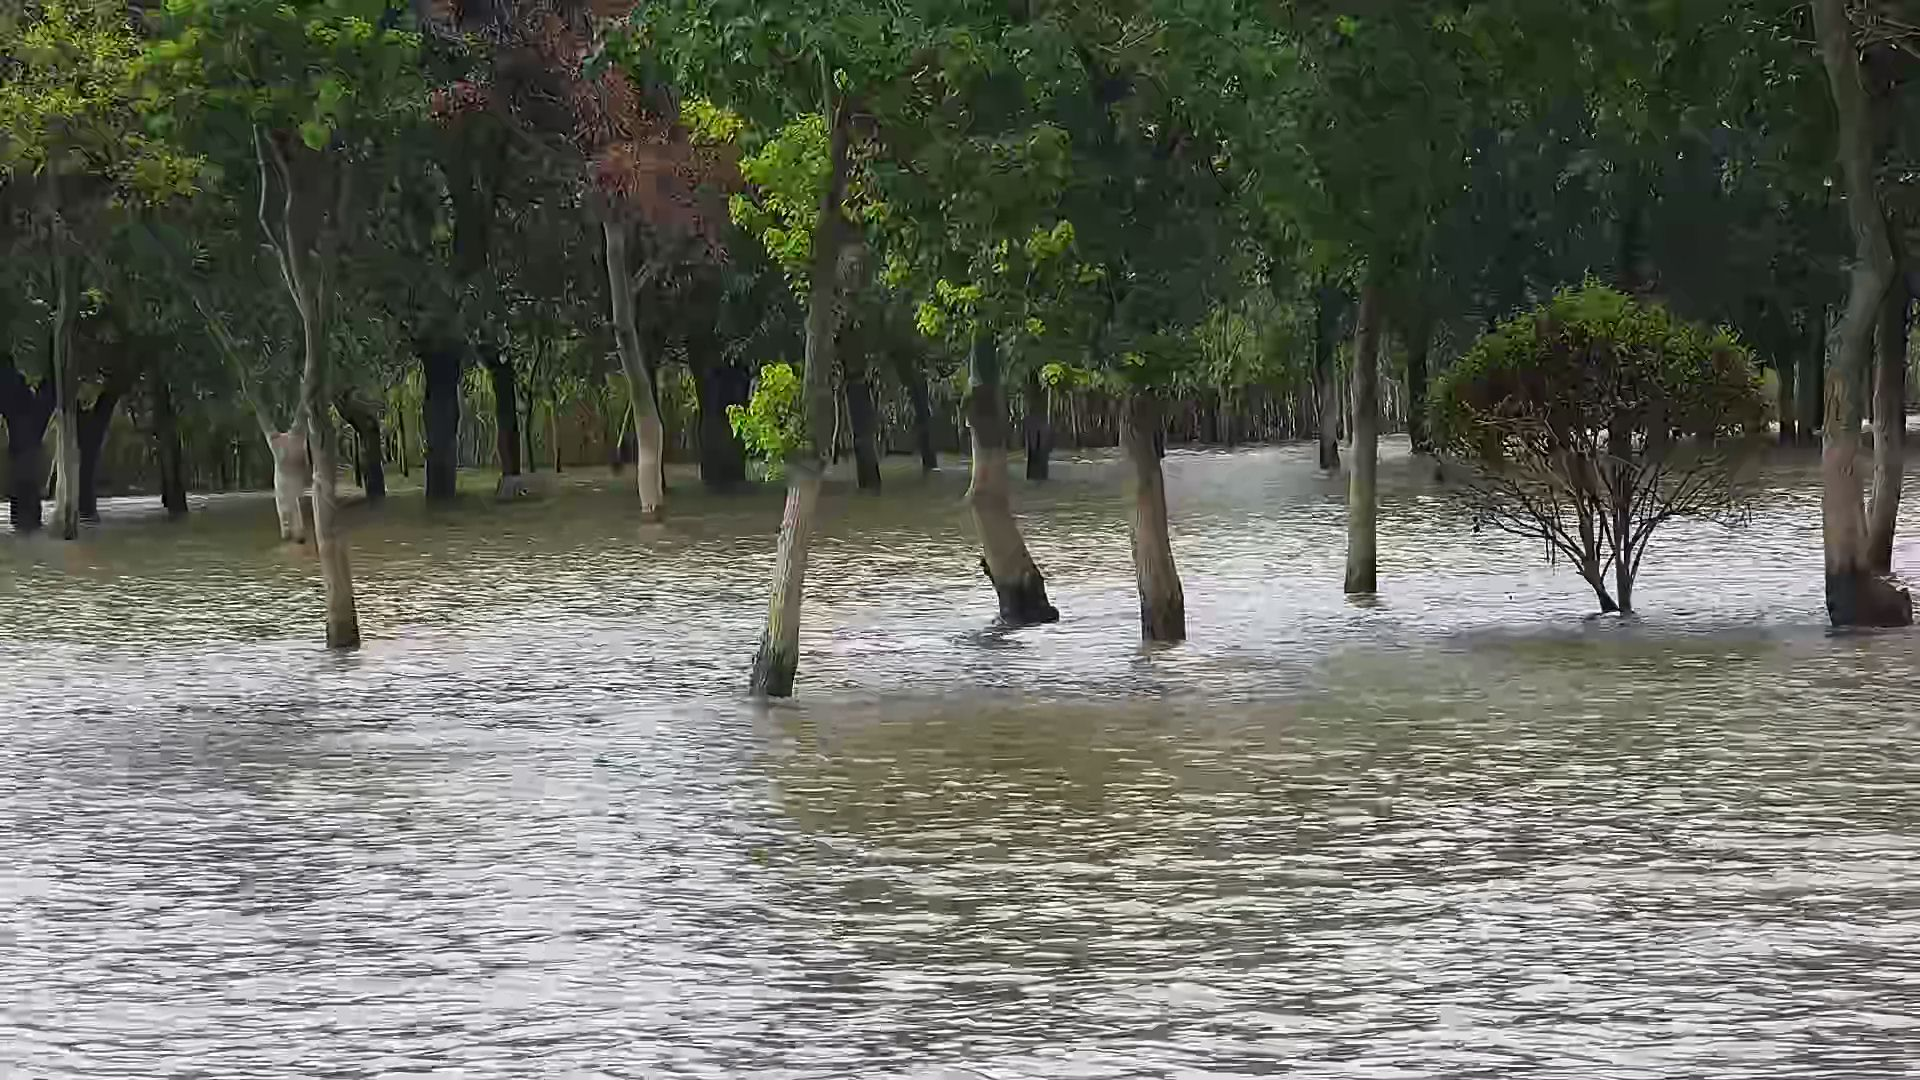tree: (138, 3, 413, 650), (1042, 1, 1265, 642), (440, 8, 717, 522), (3, 5, 227, 542), (1418, 287, 1771, 622), (1265, 3, 1451, 593), (737, 3, 887, 708), (891, 7, 1063, 618), (1805, 1, 1920, 628)
